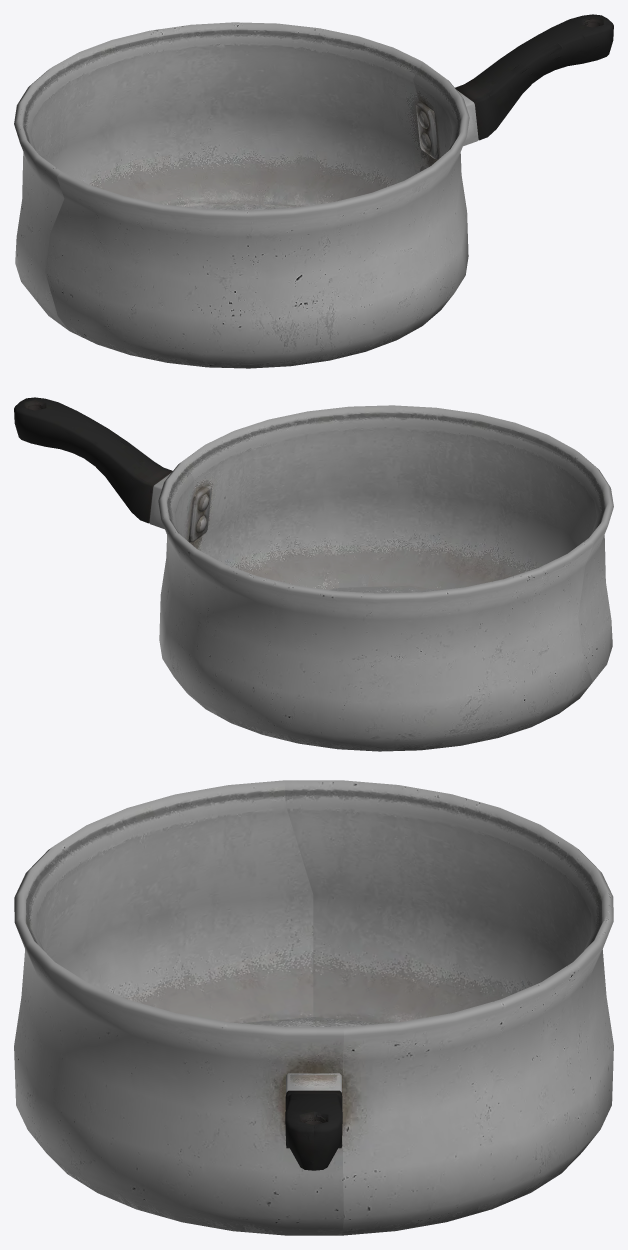
Rendered from panela.glb.
The picture shows the model from 3 angles, top to bottom: view 1: azimuth 30°, elevation 25°; view 2: azimuth 150°, elevation 25°; view 3: azimuth 270°, elevation 25°; orthographic projection. The views are drawn at different scales.
Visible parts, largest first — view 1: models\props\pot_1.vmdl_c.pot_1; view 2: models\props\pot_1.vmdl_c.pot_1; view 3: models\props\pot_1.vmdl_c.pot_1.
Part boxes in pixels (left/top/right/bottom): models\props\pot_1.vmdl_c.pot_1: left=14, top=14, right=613, bottom=368; models\props\pot_1.vmdl_c.pot_1: left=14, top=397, right=613, bottom=751; models\props\pot_1.vmdl_c.pot_1: left=14, top=780, right=613, bottom=1235.
Bounding box in the file's own units: 0.3927 × 0.1175 × 0.2741.
Materials: 1 (1 with a texture image).
